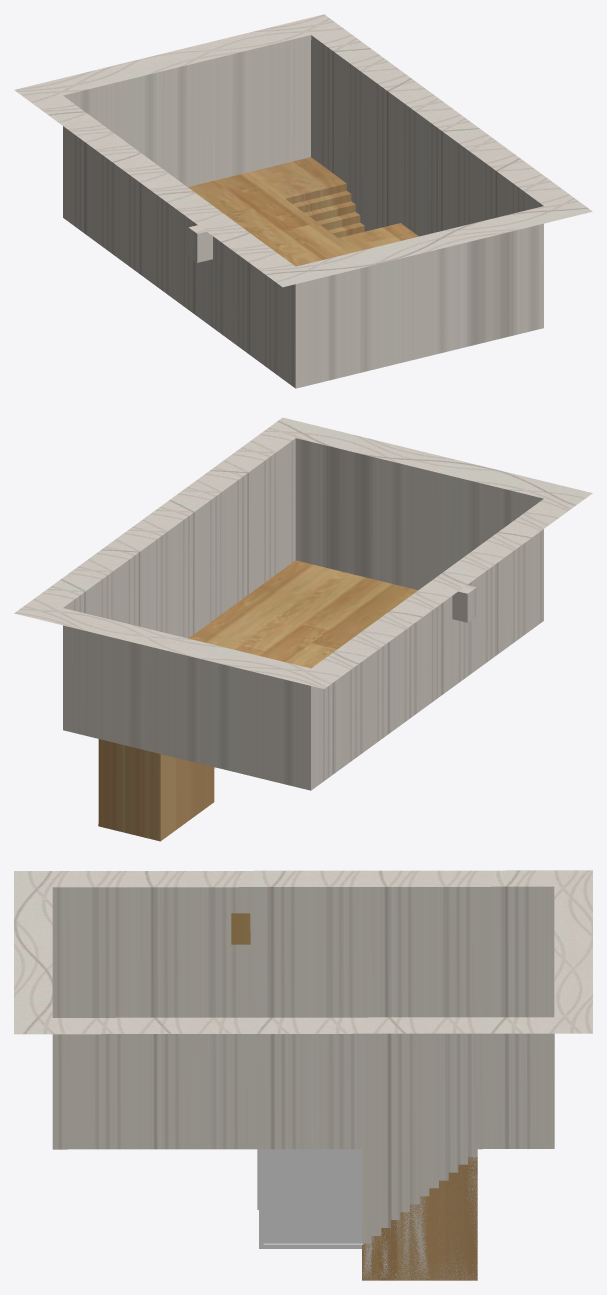
Rendered from level2_map 3.FBX.
3 views of the same model, one above another, from view 1: azimuth 30°, elevation 25°; view 2: azimuth 150°, elevation 25°; view 3: azimuth 270°, elevation 25° (orthographic). The views are drawn at different scales.
Parts seen in each view (by area): view 1: Plane001; view 2: Plane001; view 3: Plane001, Plane003.
Part boxes in pixels (x1,y1,x2,y2): Plane001: (14, 14, 592, 388); Plane001: (14, 417, 592, 841); Plane001: (14, 870, 592, 1280); Plane003: (259, 1149, 361, 1248).
Size of the model in its own units: 102 by 76.5 by 152.
